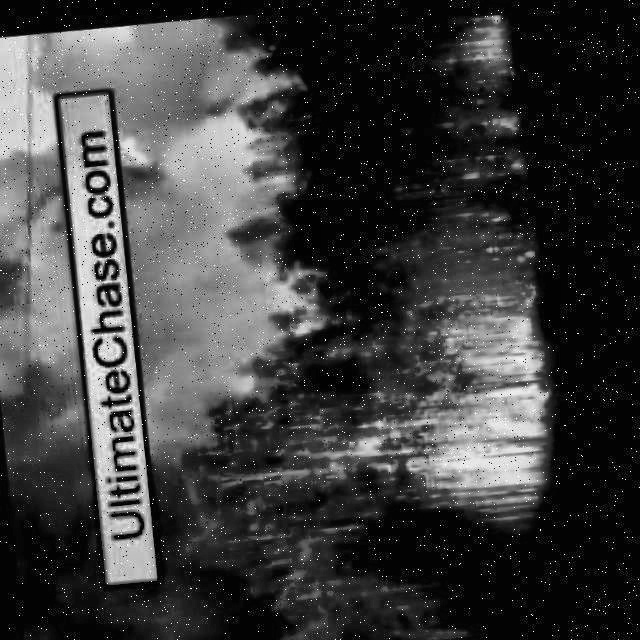Fire: (386, 282, 567, 517), (458, 103, 529, 182), (447, 10, 510, 72)
Smoke: (94, 9, 295, 415), (0, 135, 119, 640)
